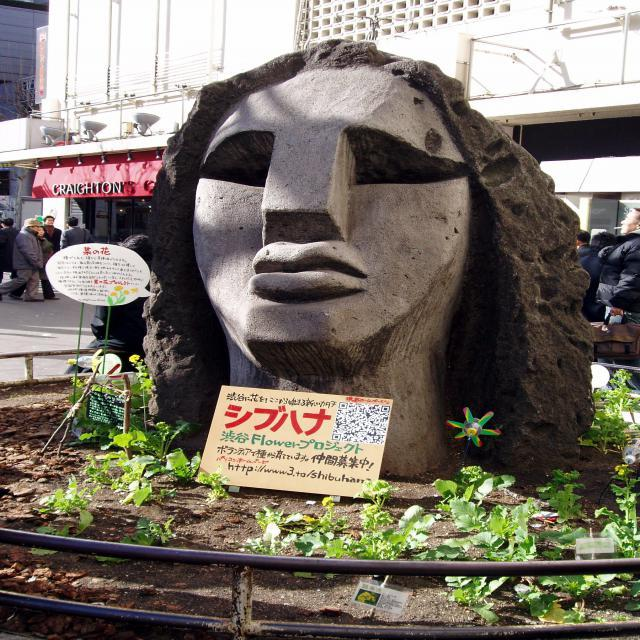qrcode: (332, 404, 391, 446)
